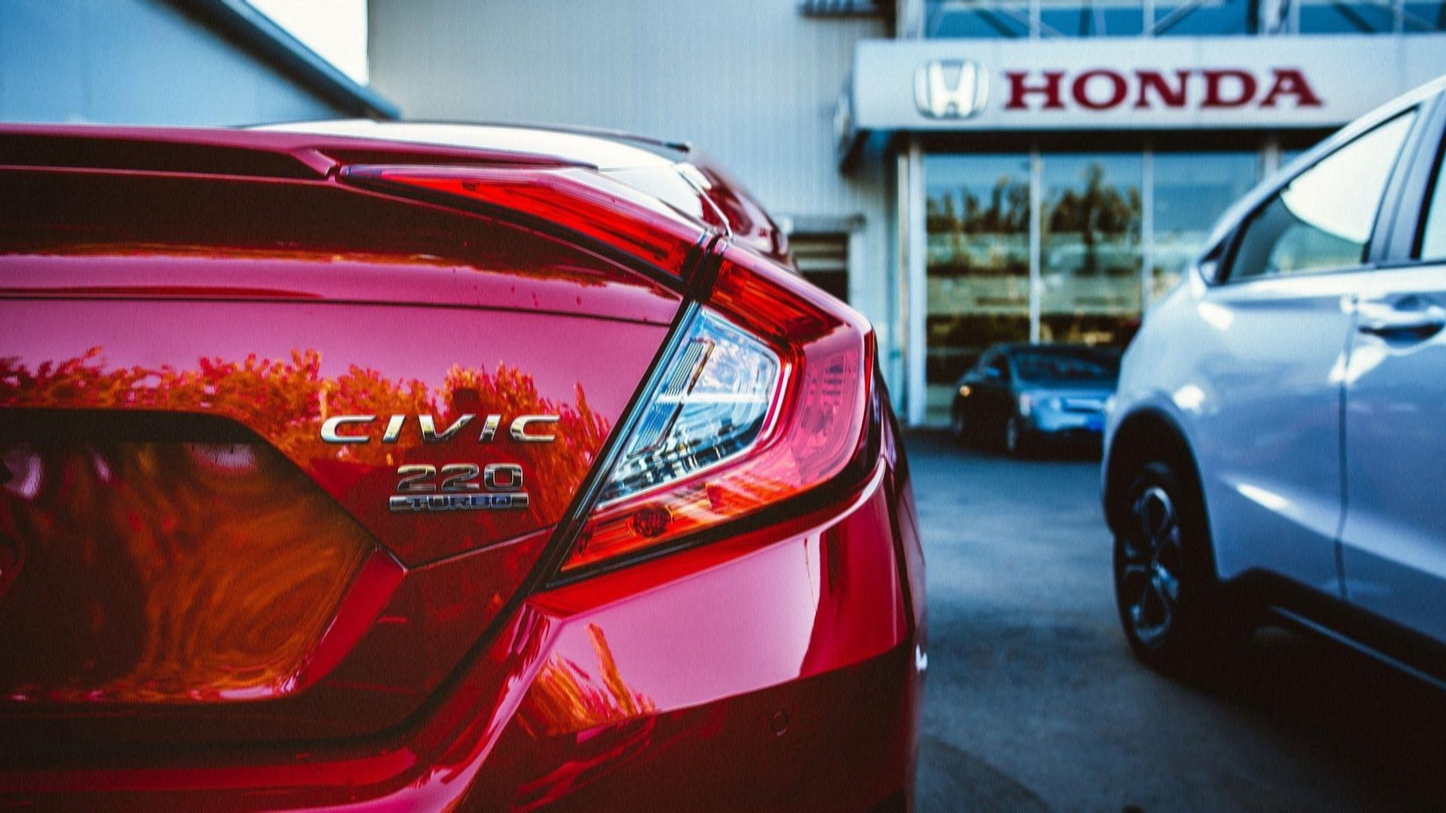Car boot: (0, 118, 689, 781)
Rear light - -R-: (537, 236, 889, 604)
